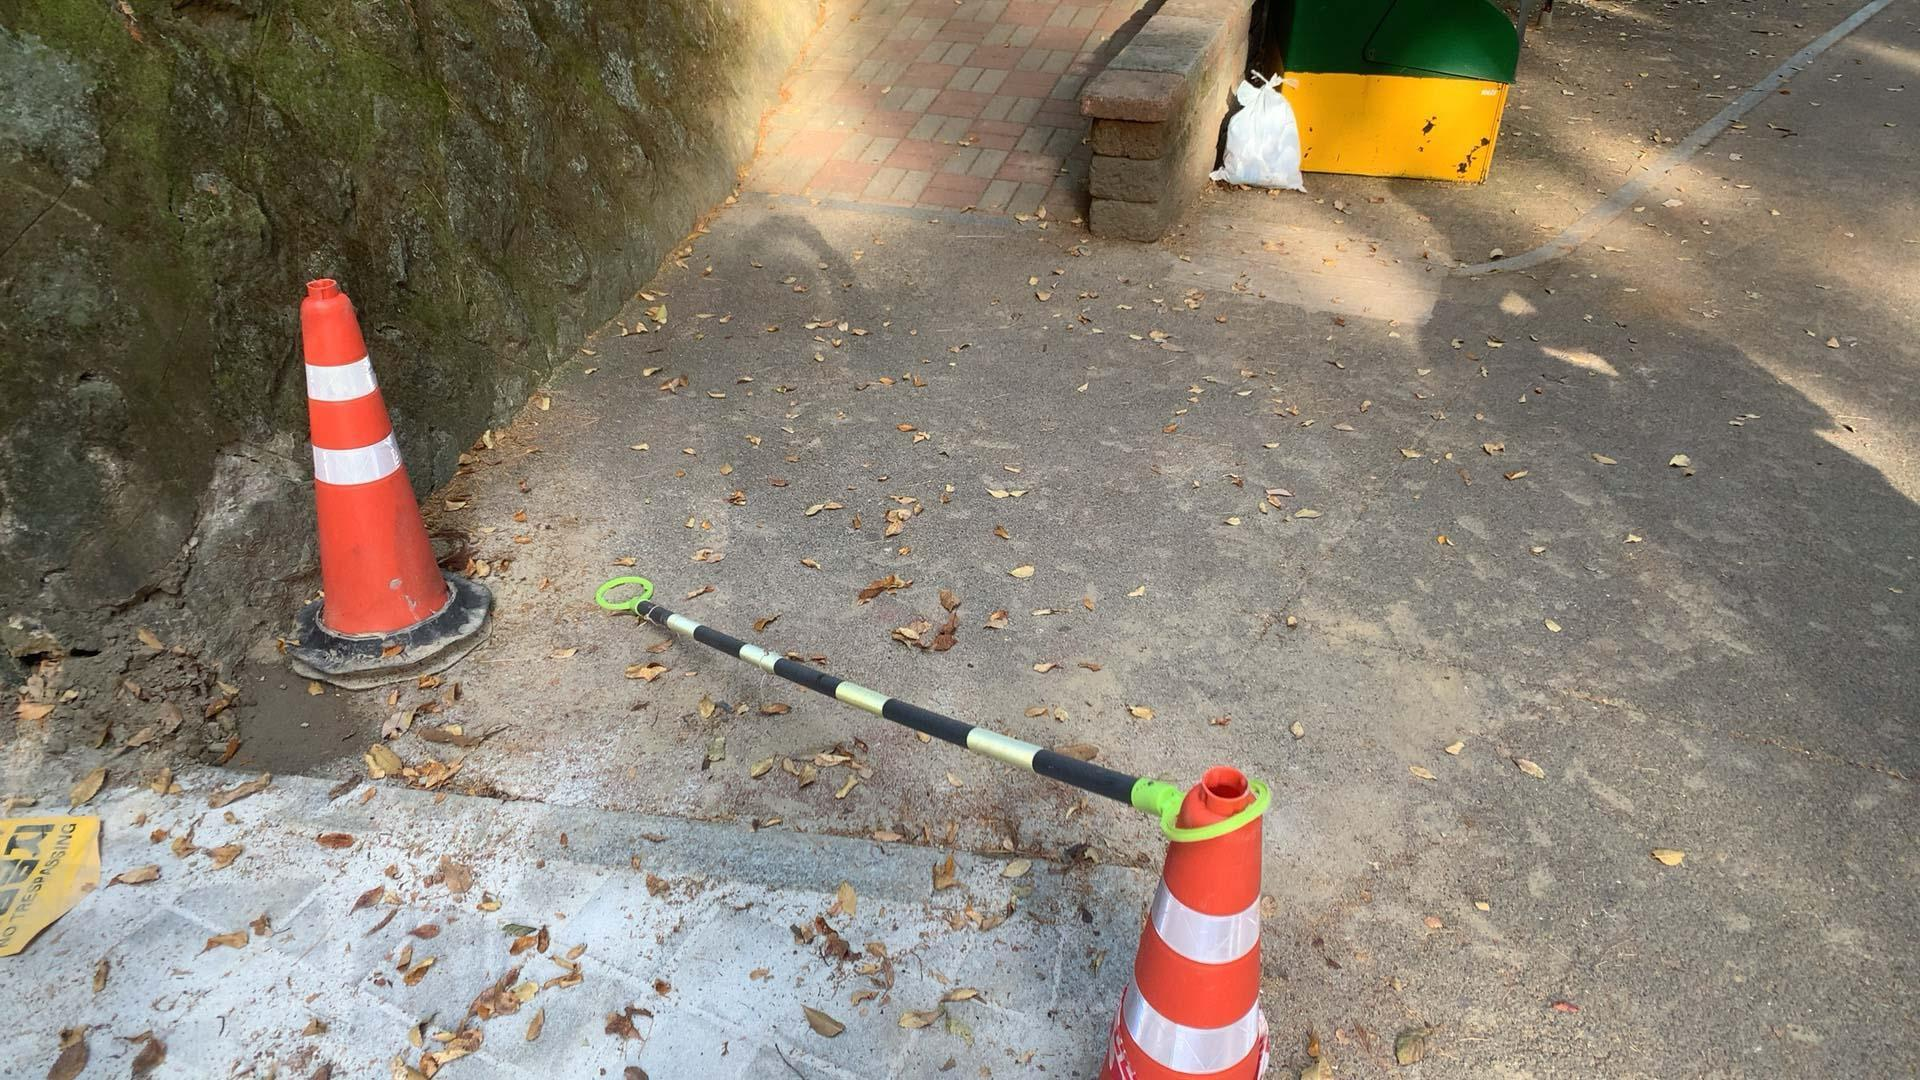white_bag: (1207, 65, 1311, 194)
